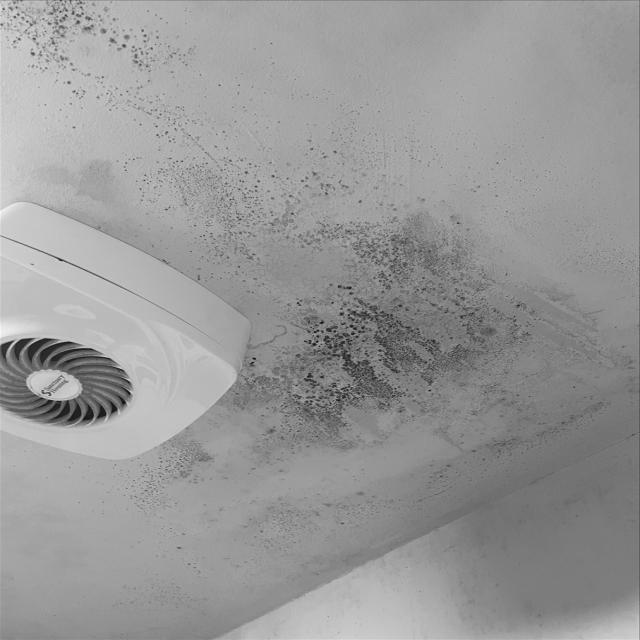stain marks: (102, 143, 640, 640), (0, 0, 417, 144), (532, 0, 640, 140), (2, 148, 100, 218)
